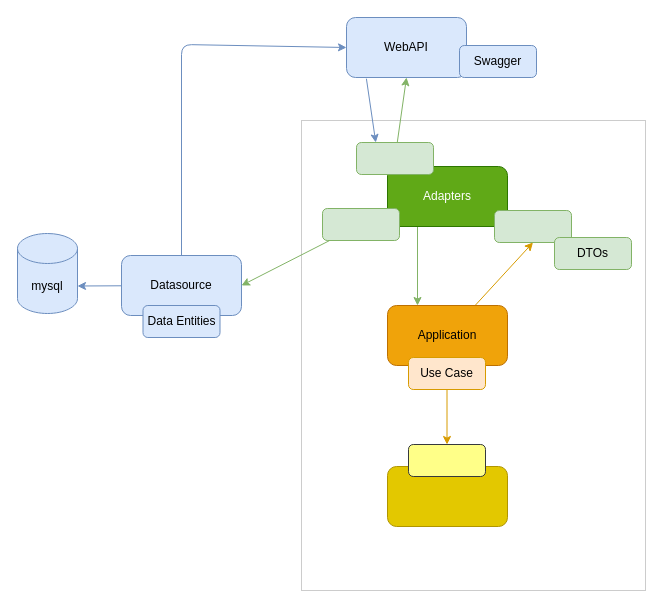
Some shapes in this 663 by 608 pixel diagram are drawn without their labels. Each missing label, with the centre of its shape:
Business Entities: (447,460)
Controllers: (395,158)
Domain: (447,496)
Gateways: (361,224)
Presenters: (533,226)
